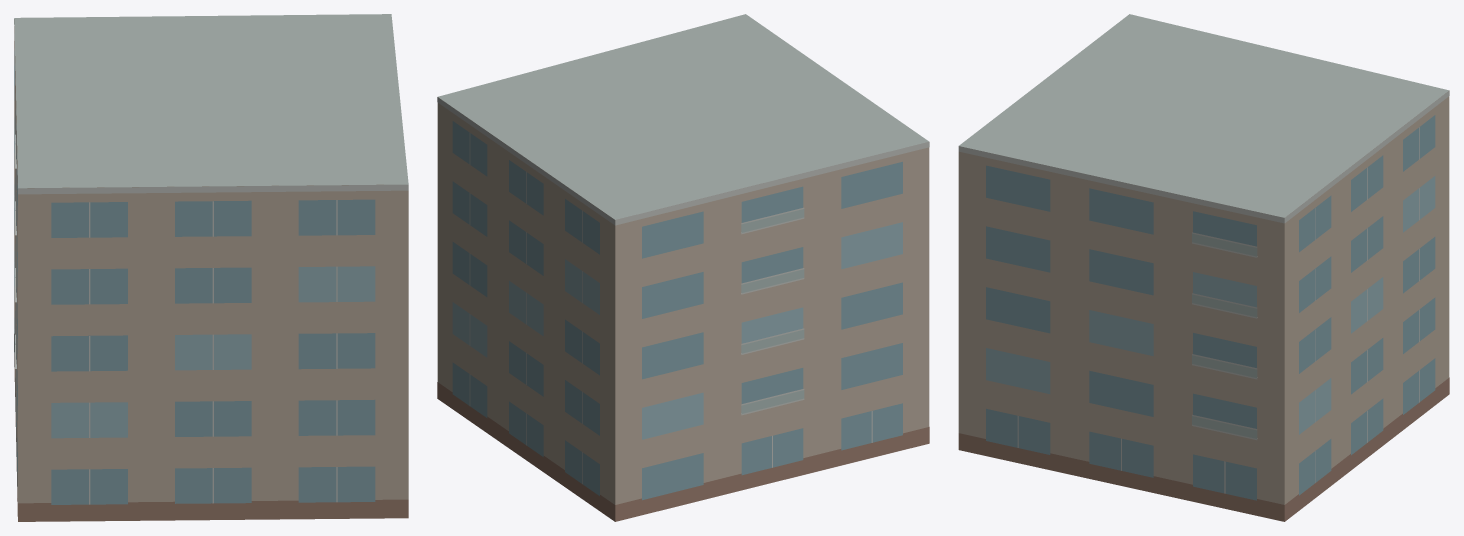
File: survey-upis-32766134.glb
3 views of the same model, side by side, from view 1: azimuth 30°, elevation 25°; view 2: azimuth 150°, elevation 25°; view 3: azimuth 270°, elevation 25° (orthographic). The views are drawn at different scales.
Visible parts, largest first — view 1: survey-upis-32766134.tmp; view 2: survey-upis-32766134.tmp; view 3: survey-upis-32766134.tmp.
Boxes of the visible parts, x1,y1,x2,y2 form: survey-upis-32766134.tmp: (14, 14, 408, 521); survey-upis-32766134.tmp: (437, 14, 929, 521); survey-upis-32766134.tmp: (958, 14, 1449, 521).
Size of the model in its own units: 18.99 by 13.2 by 19.32.
